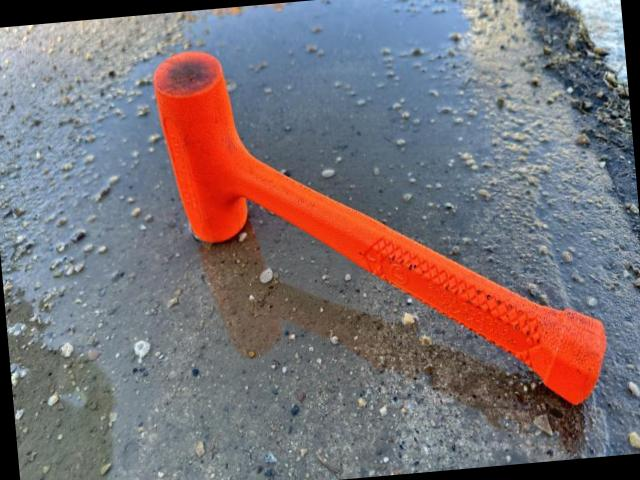hammer: (152, 15, 610, 438)
